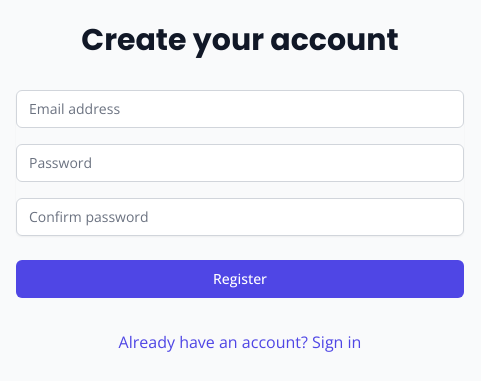
Test: Register Component › validates passwords match
The image size is (481, 381).
In the field with placeholder "Email address": point(240, 109) [16,90,464,128], type "test@example.com"
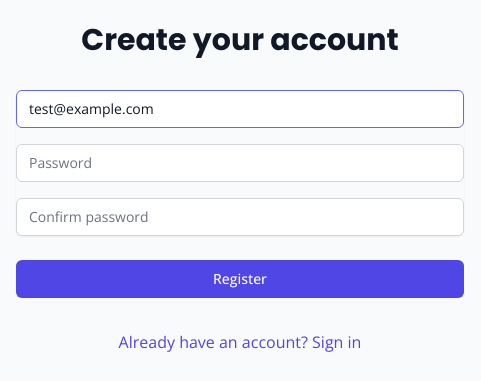
In the password field with placeholder "Password": point(240, 163) [16,144,464,182], type "password123"
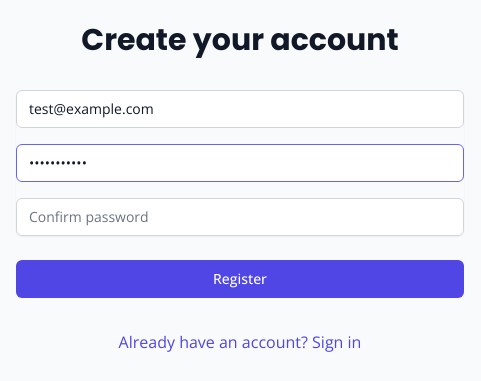
In the password field with placeholder "Confirm password": point(240, 217) [16,198,464,236], type "password456"
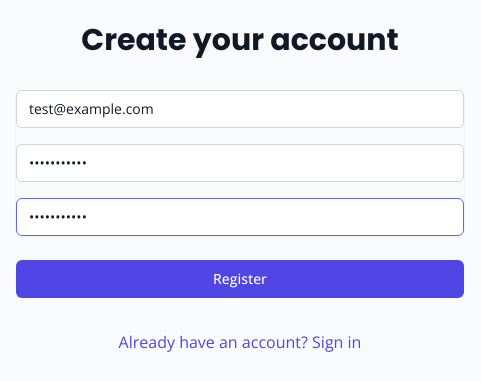
Click the button "Register": point(240, 279) [16,260,464,298]
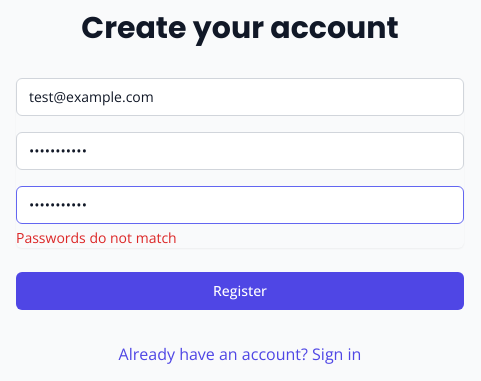
Check: the text "Passwords do not match" is shown, box [16,228,177,247]
